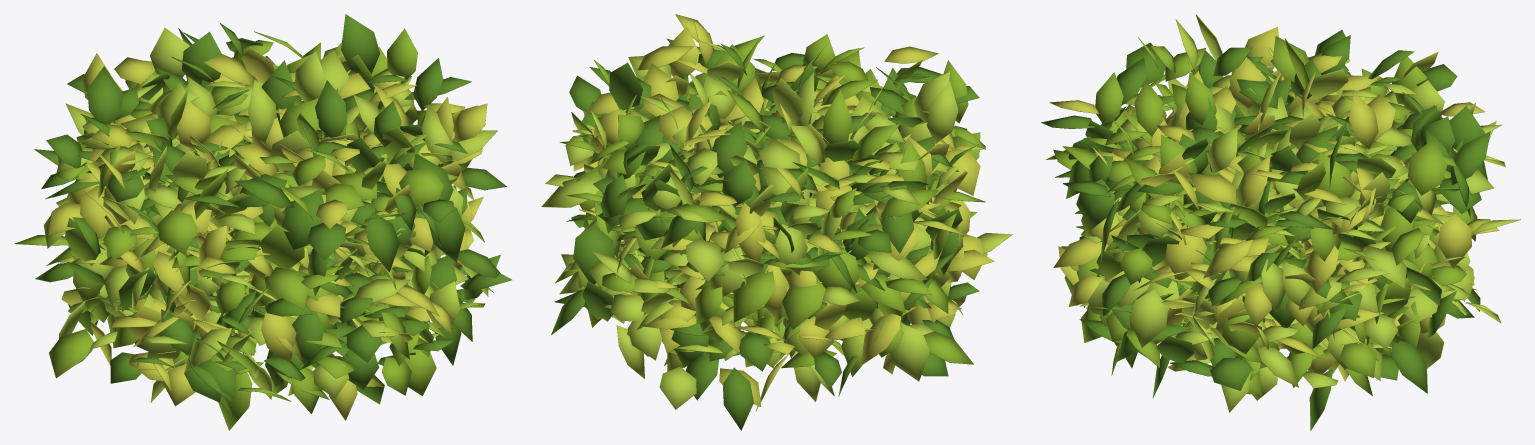
File: TreeCanopy.fbx
3 renders of one model, left to right at view 1: azimuth 30°, elevation 25°; view 2: azimuth 150°, elevation 25°; view 3: azimuth 270°, elevation 25°, orthographic. The views are drawn at different scales.
Visible parts, largest first — view 1: Full sunlit canopy; view 2: Full sunlit canopy; view 3: Full sunlit canopy.
Boxes of the visible parts, x1,y1,x2,y2 form: Full sunlit canopy: (14,14,511,430); Full sunlit canopy: (541,14,1012,430); Full sunlit canopy: (1041,14,1520,430).
Bounding box in the file's own units: 2.86 × 1.98 × 2.94.
